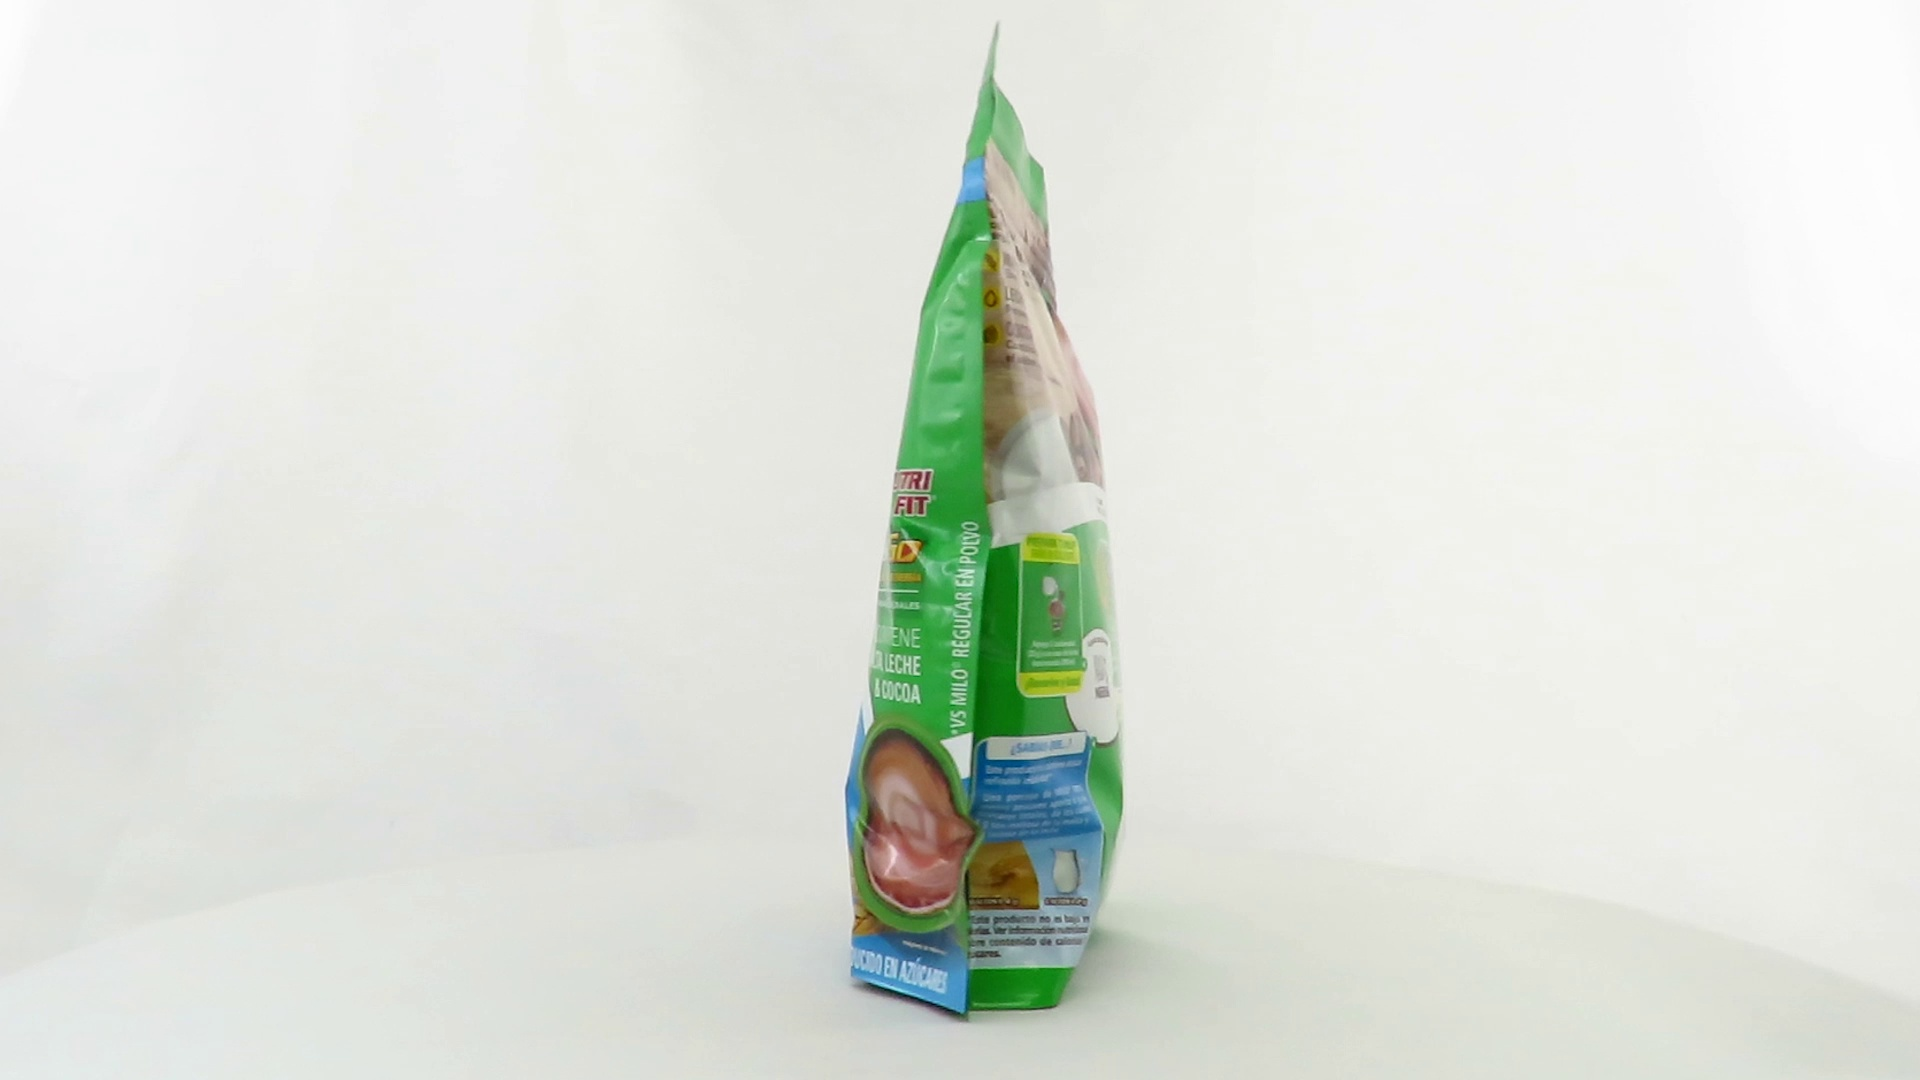COL0170205DYP50000: (840, 16, 1129, 1030)
